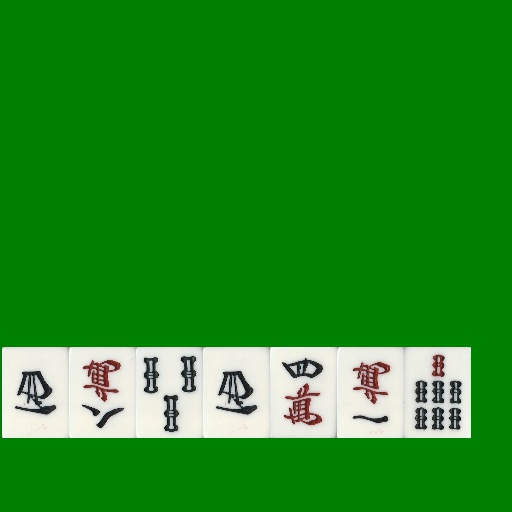1m: (337, 347, 404, 438)
3s: (136, 347, 203, 438)
4m: (270, 347, 337, 438)
7s: (404, 347, 471, 438)
8m: (69, 347, 136, 438)
west: (2, 347, 69, 438), (203, 347, 270, 438)
